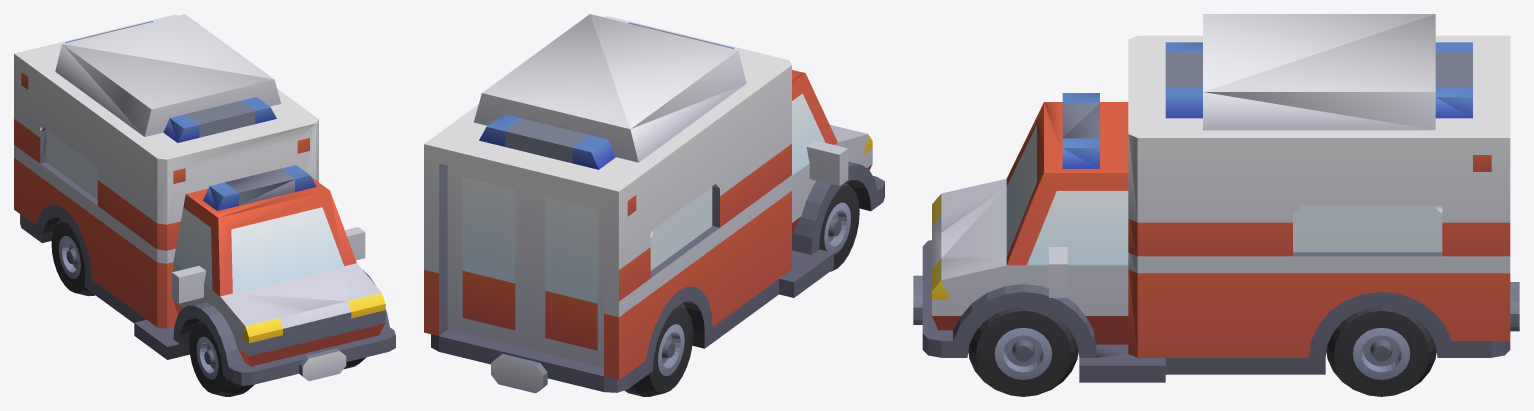
Rendered from sand3-service-ambulance-col.glb.
3 views of the same model, side by side, from view 1: azimuth 30°, elevation 25°; view 2: azimuth 150°, elevation 25°; view 3: azimuth 270°, elevation 25° (orthographic). The views are drawn at different scales.
Parts seen in each view (by area): view 1: sand3-service-ambulance-col; view 2: sand3-service-ambulance-col; view 3: sand3-service-ambulance-col.
Boxes of the visible parts, <box> form: sand3-service-ambulance-col: <box>14,14,395,396</box>; sand3-service-ambulance-col: <box>424,14,884,396</box>; sand3-service-ambulance-col: <box>913,14,1519,396</box>.
Size of the model in its own units: 2.26 by 2.71 by 4.9.
Materials: 1 (1 with a texture image).
